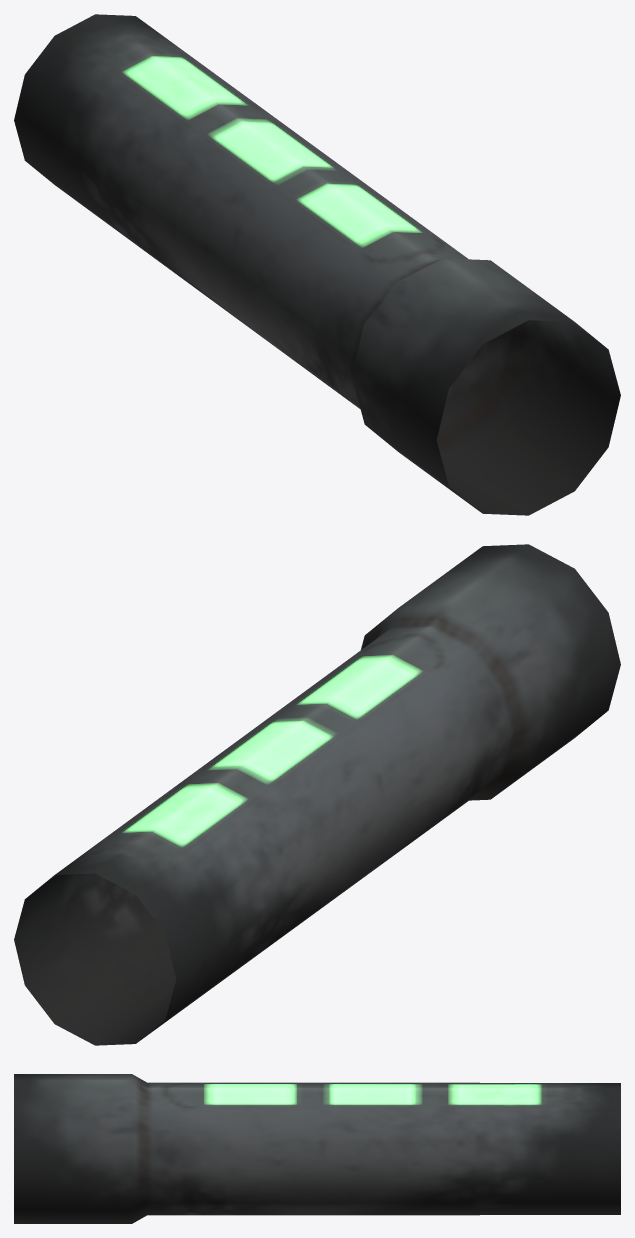
File: tong.FBX
3 renders of one model, top to bottom at view 1: azimuth 30°, elevation 25°; view 2: azimuth 150°, elevation 25°; view 3: azimuth 270°, elevation 25°, orthographic. The views are drawn at different scales.
Visible parts, largest first — view 1: hz_jiatelin; view 2: hz_jiatelin; view 3: hz_jiatelin.
Part boxes in pixels (<box>): hz_jiatelin: <box>14,14,620,515</box>; hz_jiatelin: <box>14,544,620,1045</box>; hz_jiatelin: <box>14,1074,620,1223</box>.
Bounding box in the file's own units: 1.41 × 1.43 × 5.75.
